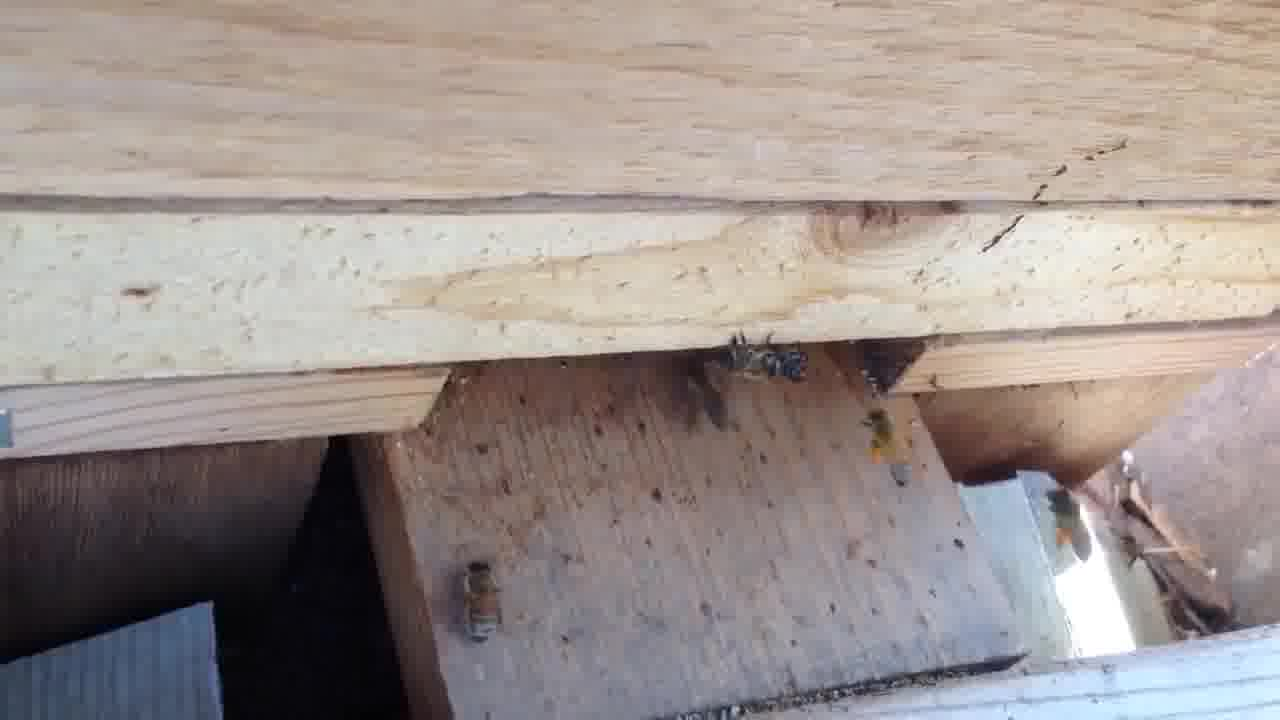pollen: (857, 410, 924, 490), (1042, 486, 1095, 565)
